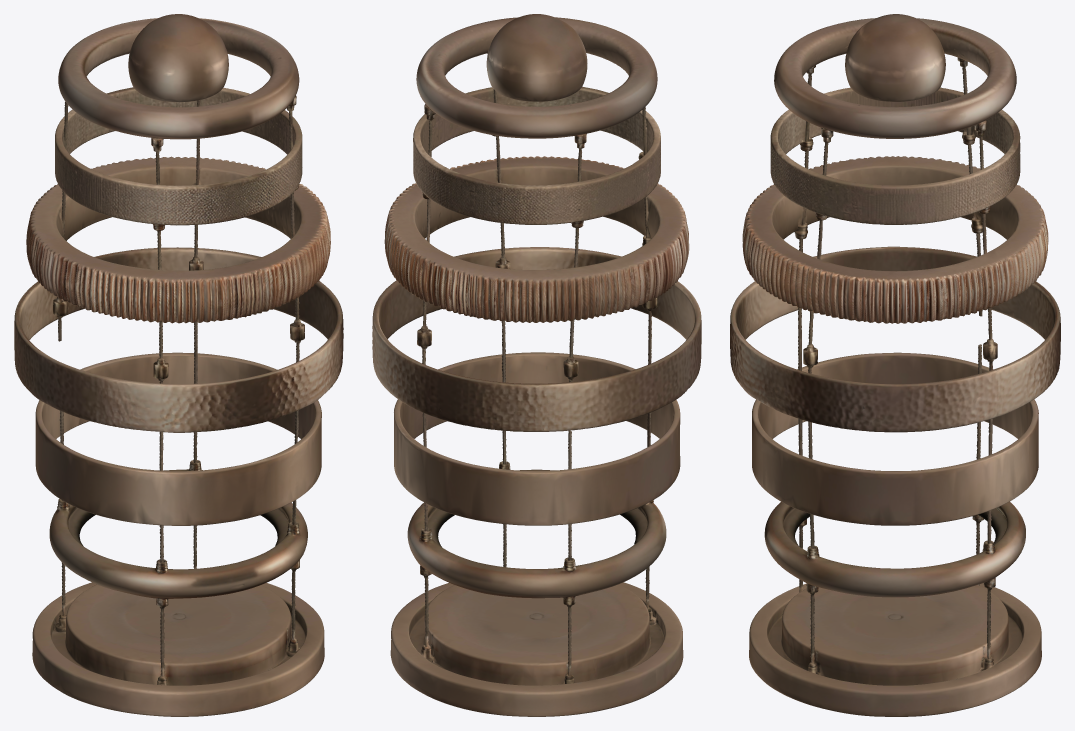
The picture shows the model from 3 angles, left to right: view 1: azimuth 30°, elevation 25°; view 2: azimuth 150°, elevation 25°; view 3: azimuth 270°, elevation 25°; orthographic projection.
Parts seen in each view (by area): view 1: tripo_node_9fbd8f63-f3aa-48e3-acaf-08eab1e4a110; view 2: tripo_node_9fbd8f63-f3aa-48e3-acaf-08eab1e4a110; view 3: tripo_node_9fbd8f63-f3aa-48e3-acaf-08eab1e4a110.
Part boxes in pixels (bbox=[...]): tripo_node_9fbd8f63-f3aa-48e3-acaf-08eab1e4a110: bbox=[14, 14, 343, 716]; tripo_node_9fbd8f63-f3aa-48e3-acaf-08eab1e4a110: bbox=[372, 14, 701, 716]; tripo_node_9fbd8f63-f3aa-48e3-acaf-08eab1e4a110: bbox=[730, 14, 1060, 716].
Size of the model in its own units: 0.461 by 0.9796 by 0.4611.
1 material, 1 textured.
